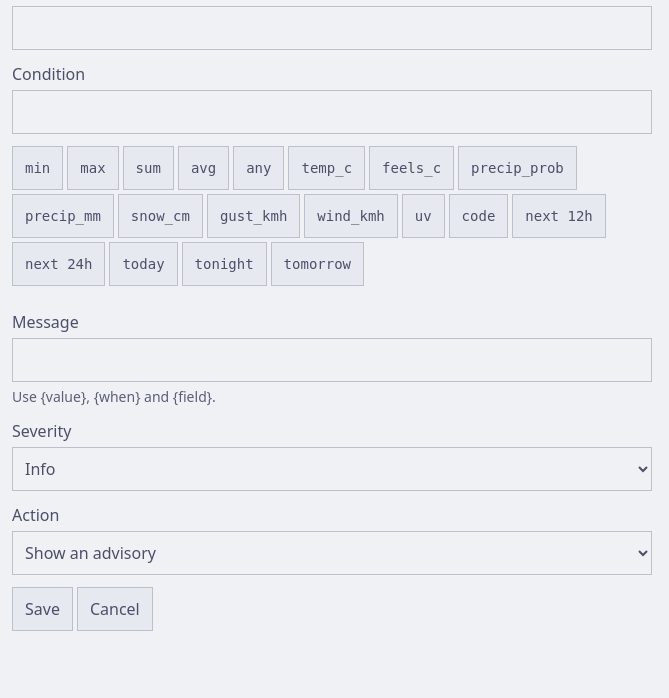
Test: rule editor › debounces validation by 300 ms and shows the error at its position
Type "min(" into the field named "condition". click: (332, 112)
box: [12,90,652,134]
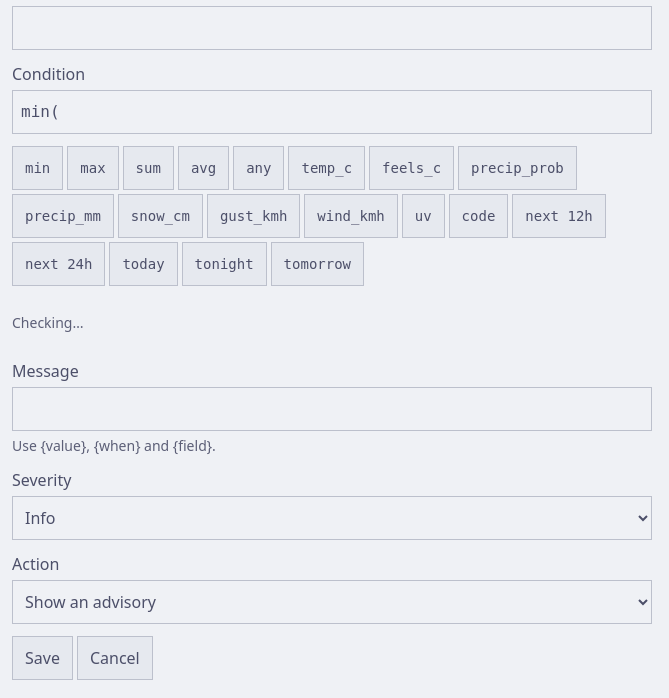
Replace the text in the field named "condition" with "min(tmp". click: (332, 112)
box: [12,90,652,134]
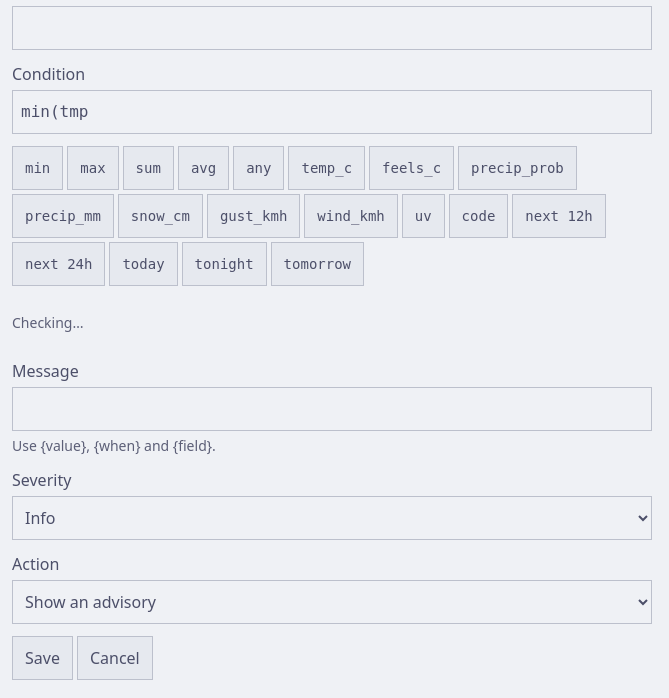
Replace the text in the field named "condition" with "min(tmpx, today) < 1". click: (332, 112)
box: [12,90,652,134]
Wait 300 ms
(page scrolled)
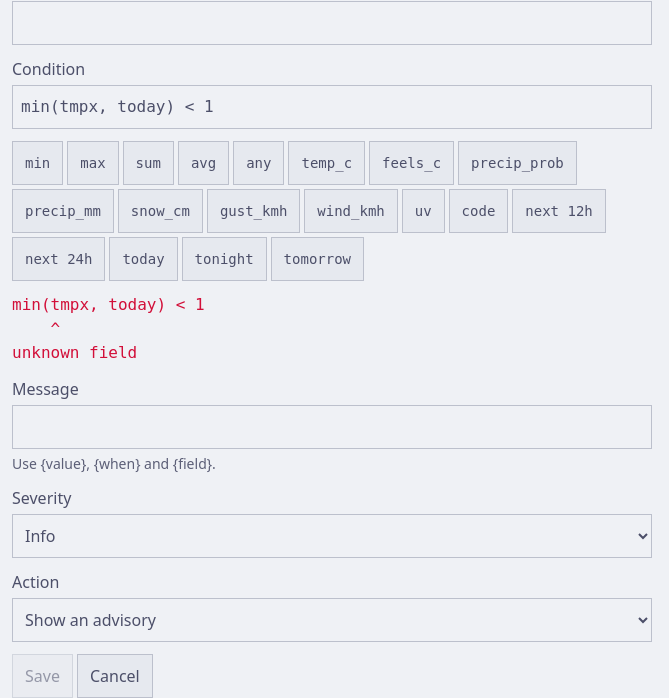
Check: the text with test id "rule-error" shows "unknown field", box [12,295,205,362]
Check: the text with test id "rule-error" shows "^", box [12,295,205,362]
Check: the submit button is disabled, box [12,654,73,697]
